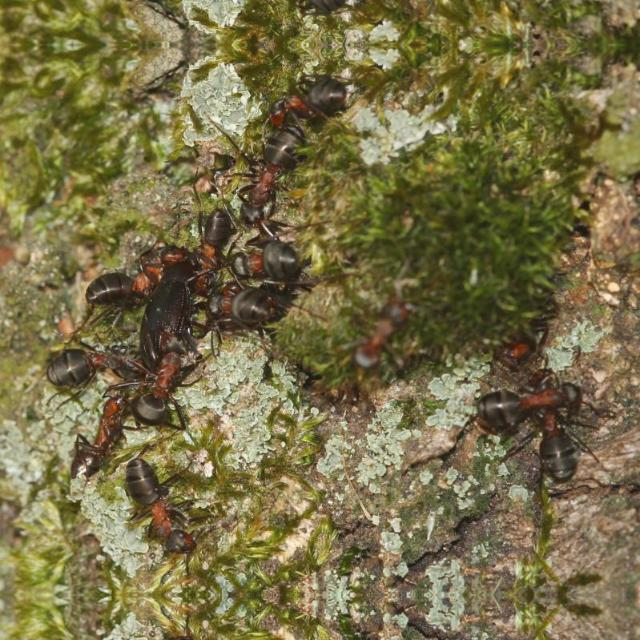Formica: (113, 430, 210, 576), (518, 354, 604, 484), (460, 358, 600, 434), (222, 120, 322, 224), (340, 278, 432, 390), (82, 220, 202, 304), (218, 214, 314, 290), (178, 205, 248, 305), (56, 380, 134, 460), (258, 67, 354, 129), (133, 334, 197, 426), (60, 327, 144, 387), (215, 284, 291, 334), (258, 0, 354, 20)
